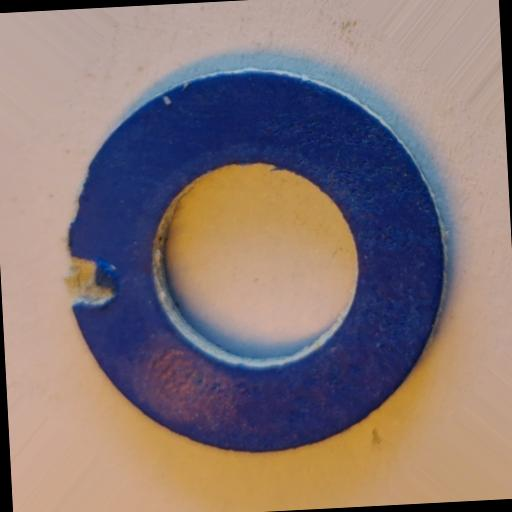defect: (62, 252, 120, 308)
